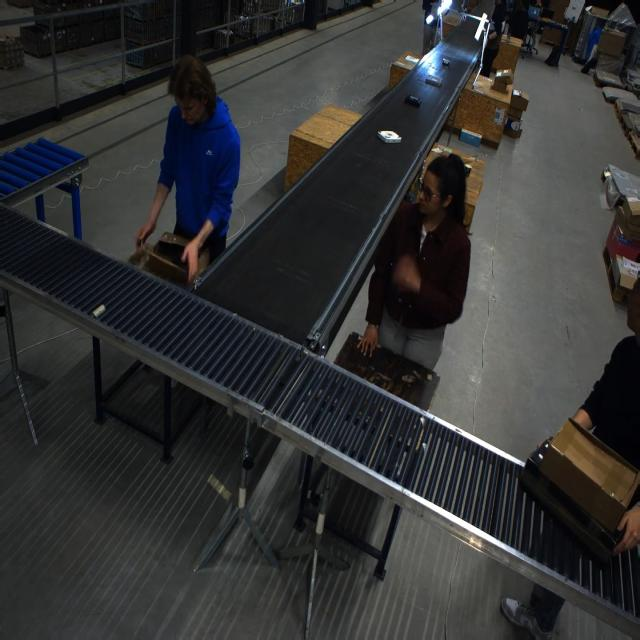box: (523, 402, 640, 553), (126, 234, 211, 291), (597, 28, 626, 57), (509, 87, 529, 115), (540, 25, 563, 46), (503, 117, 523, 138), (491, 71, 510, 93)
product: (377, 130, 401, 144), (424, 74, 442, 87), (404, 95, 421, 107), (442, 58, 450, 66)
